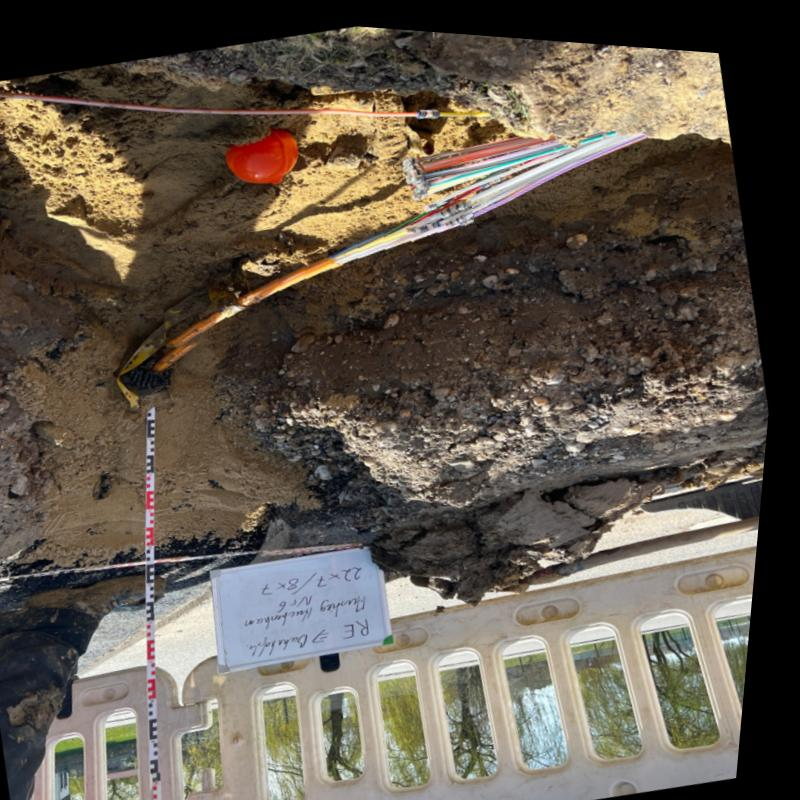Kugelmarker: (230, 124, 301, 178)
Orang-Speednetrohrchen: (172, 194, 477, 345)
